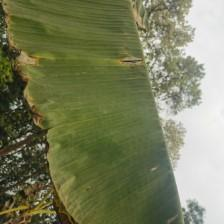pestalotiopsis: (0, 0, 184, 224)
